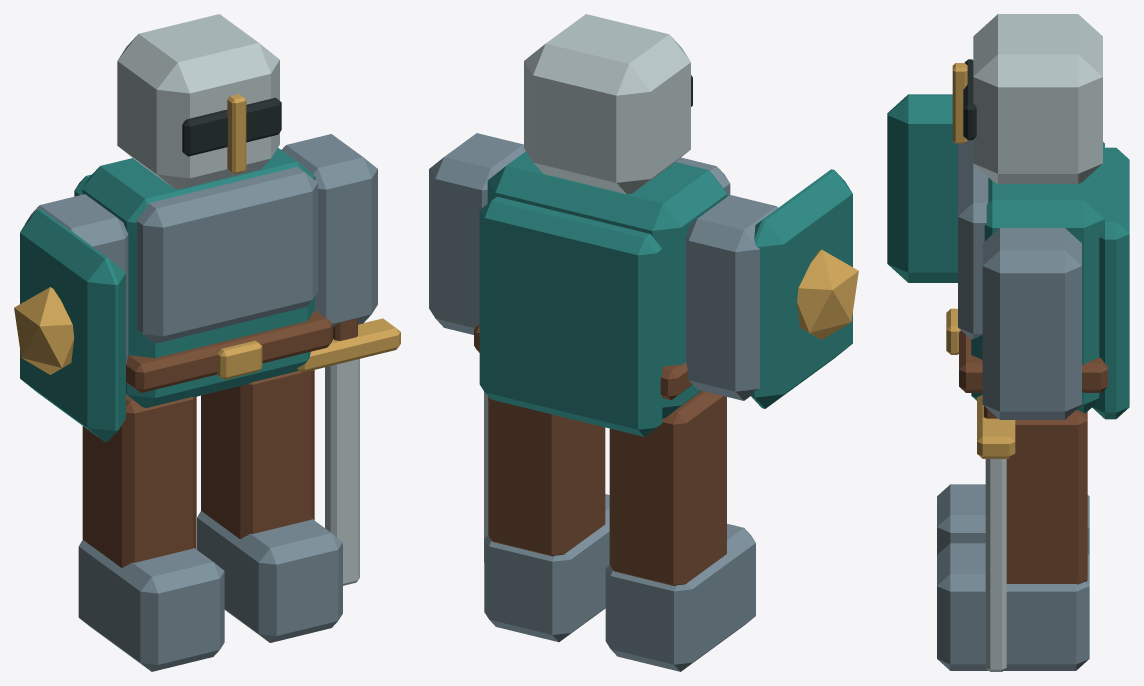
The model's file is traveller.glb.
3 renders of one model, left to right at view 1: azimuth 30°, elevation 25°; view 2: azimuth 150°, elevation 25°; view 3: azimuth 270°, elevation 25°, orthographic. The views are drawn at different scales.
Visible parts, largest first — view 1: Breastplate, Head, LegR, LegL, Shield, BootL, BootR, Body, ArmR, Blade, Belt, ShieldBoss (+5 smaller); view 2: Cape, Head, LegL, LegR, ArmL, Shield, Body, BootL, BootR, ArmR, ShieldBoss, Belt (+1 smaller); view 3: Head, ArmR, BootR, LegR, Shield, Body, Cape, Breastplate, Blade, BootL, Belt, Crossguard (+3 smaller).
Part boxes in pixels (<box>): Breastplate: <box>136,167,317,343</box>; Head: <box>117,14,279,189</box>; LegR: <box>201,370,314,539</box>; LegL: <box>82,395,196,567</box>; Shield: <box>20,209,125,441</box>; BootL: <box>78,540,224,671</box>; BootR: <box>197,511,342,642</box>; Body: <box>82,148,315,407</box>; ArmR: <box>282,134,377,327</box>; Blade: <box>325,359,359,585</box>; Belt: <box>126,310,332,392</box>; ShieldBoss: <box>14,287,74,374</box>; Cape: <box>479,196,662,436</box>; Head: <box>524,14,690,194</box>; LegL: <box>609,391,726,585</box>; LegR: <box>488,396,605,556</box>; ArmL: <box>686,195,777,400</box>; Shield: <box>750,169,852,408</box>; Body: <box>487,151,727,418</box>; BootL: <box>605,523,755,671</box>; BootR: <box>484,494,609,642</box>; ArmR: <box>429,133,525,334</box>; ShieldBoss: <box>797,249,858,339</box>; Belt: <box>474,324,692,400</box>; Head: <box>973,14,1102,183</box>; ArmR: <box>982,228,1081,419</box>; BootR: <box>937,543,1089,670</box>; LegR: <box>1006,410,1087,584</box>; Shield: <box>887,94,957,282</box>; Body: <box>971,142,1104,412</box>; Cape: <box>1092,147,1129,419</box>; Breastplate: <box>958,140,988,339</box>; Blade: <box>985,459,1006,671</box>; BootL: <box>937,484,1089,554</box>; Belt: <box>959,330,1107,392</box>; Crossguard: <box>977,394,1015,458</box>.
Size of the model in its own units: 1.18 by 1.71 by 0.635.
